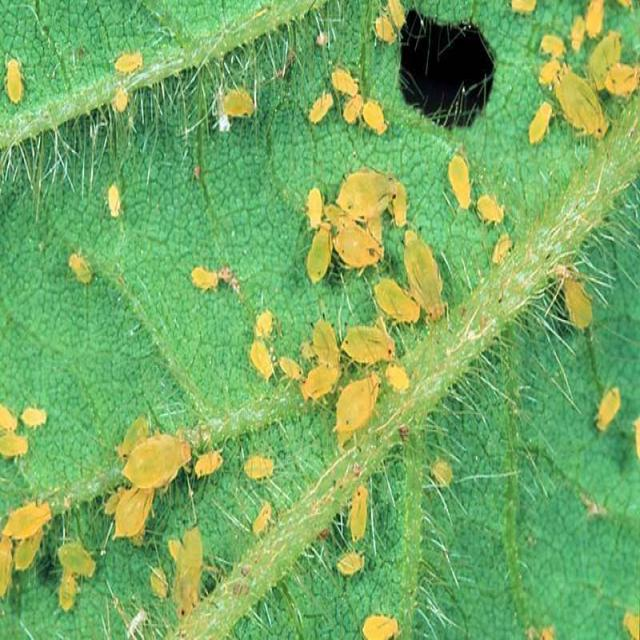Aphid-Grown-: (396, 220, 462, 331), (114, 425, 198, 501), (330, 362, 387, 447), (340, 309, 395, 374), (436, 140, 476, 214), (328, 222, 389, 270), (0, 496, 55, 544), (239, 330, 280, 390), (52, 535, 100, 585), (304, 302, 341, 366), (238, 440, 282, 489), (342, 481, 372, 545), (471, 184, 512, 230), (524, 98, 557, 150), (2, 46, 29, 108), (303, 79, 336, 125), (334, 541, 368, 581)
